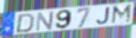7: (76, 6, 93, 29)
9: (55, 9, 74, 30)
D: (14, 13, 36, 34)
J: (95, 6, 111, 26)
M: (110, 3, 133, 26)
N: (34, 11, 55, 33)
